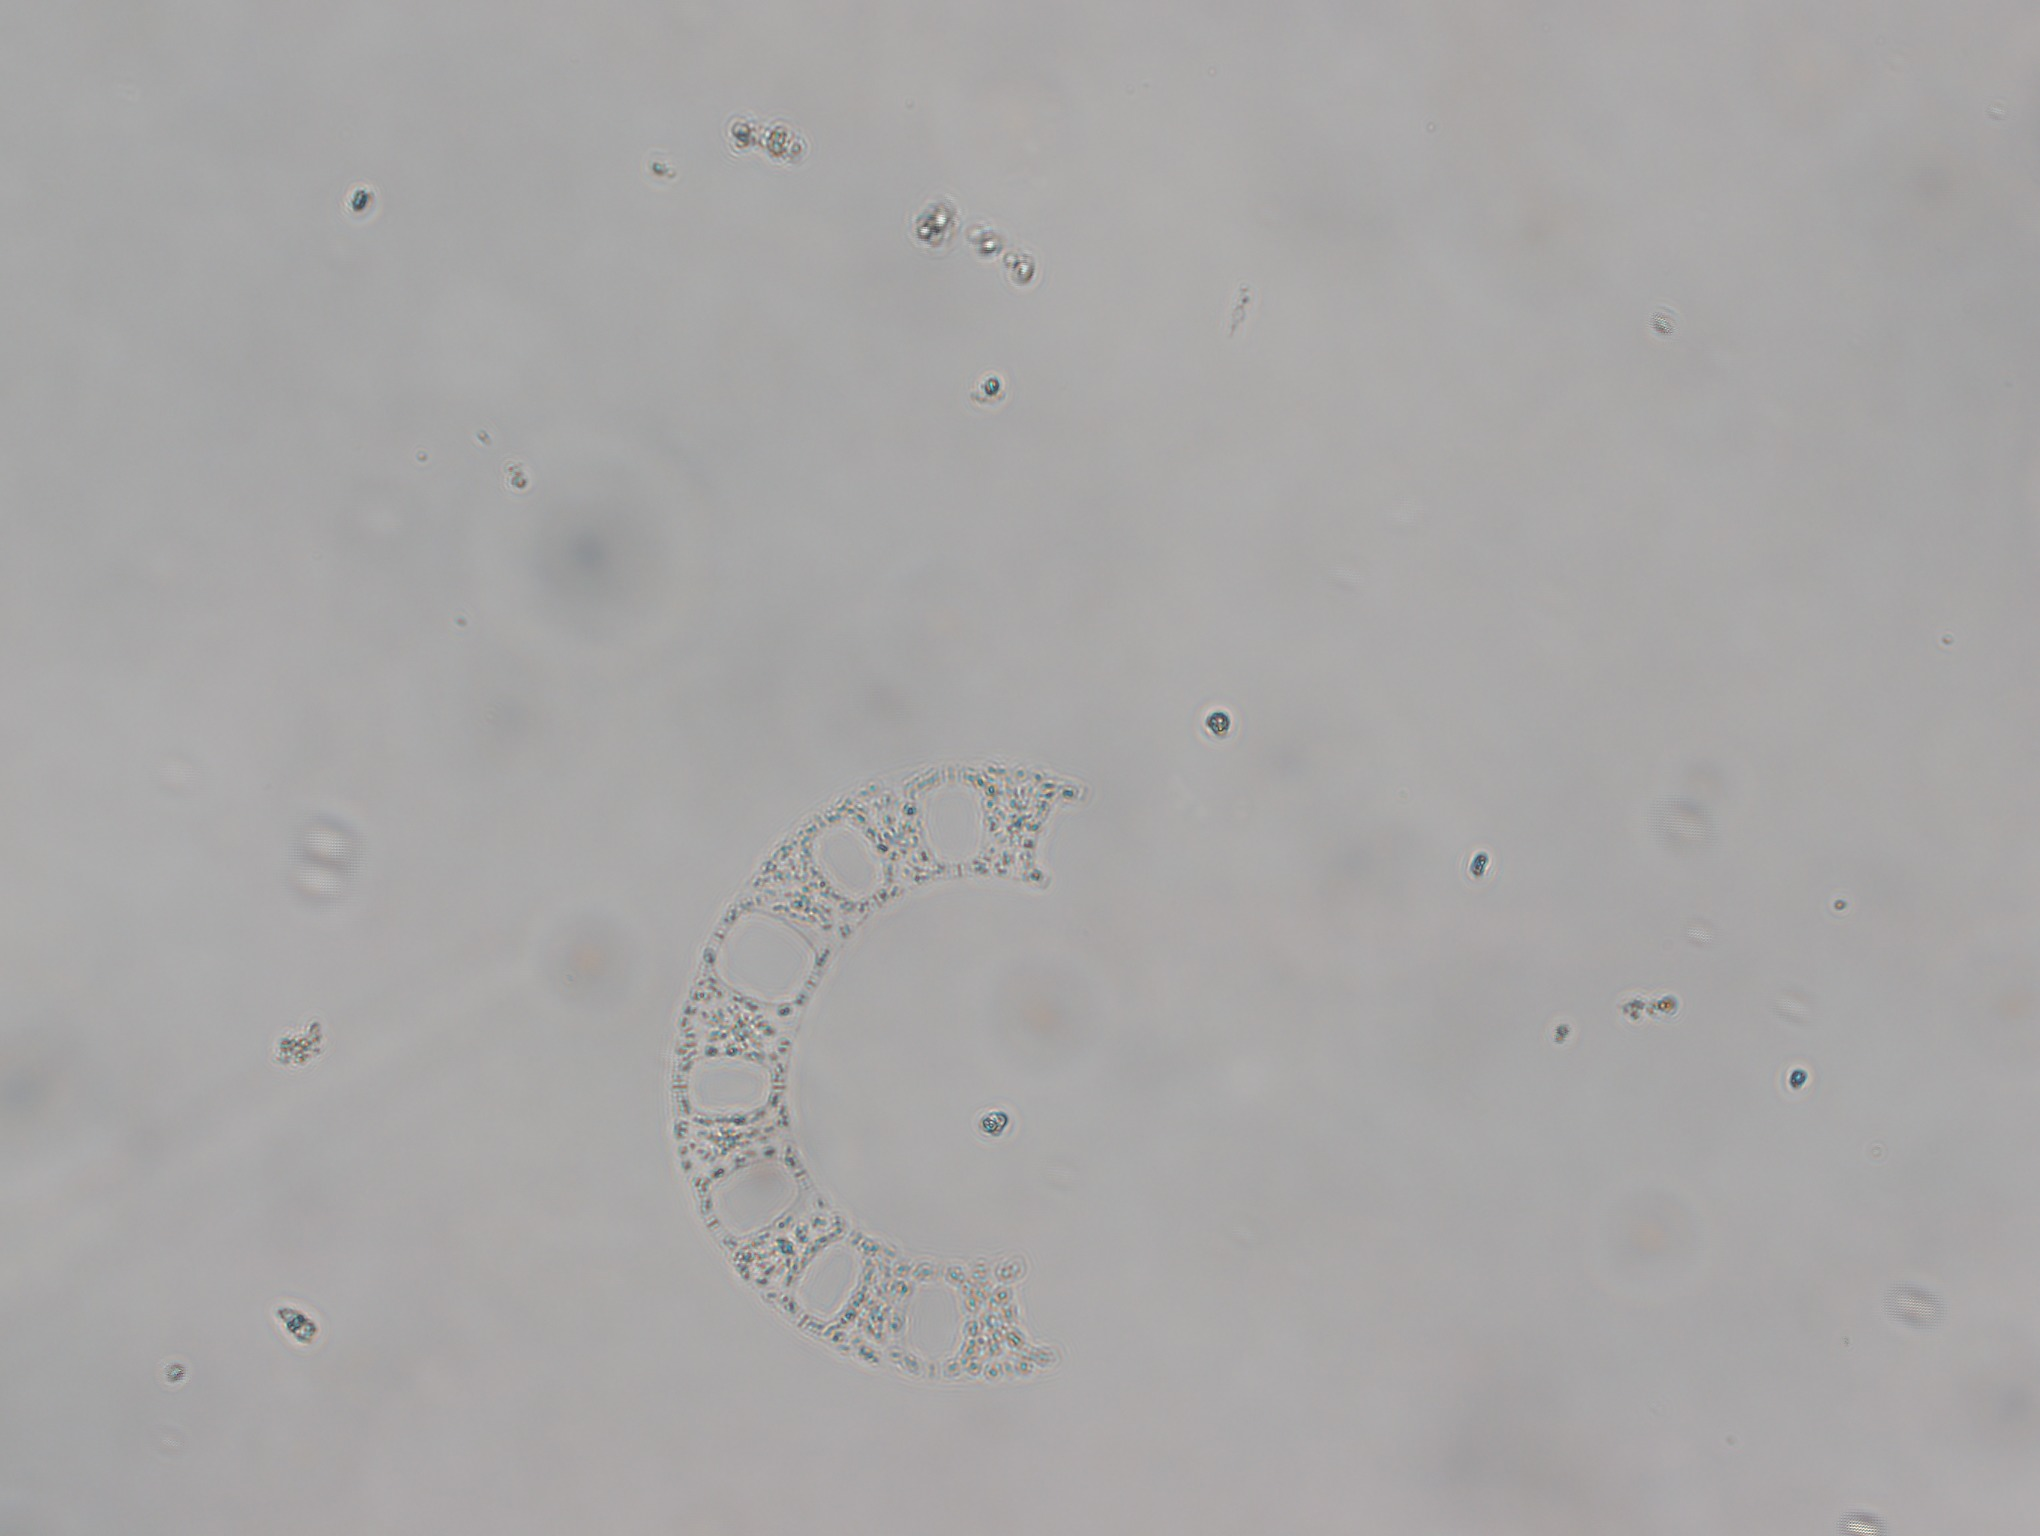eucampia: (668, 758, 1084, 1386)
